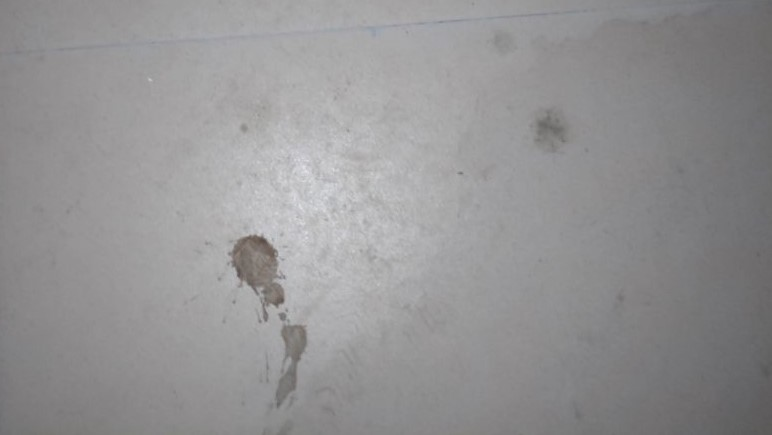grey spot: (232, 234, 283, 305), (275, 312, 309, 405), (530, 109, 568, 155)
